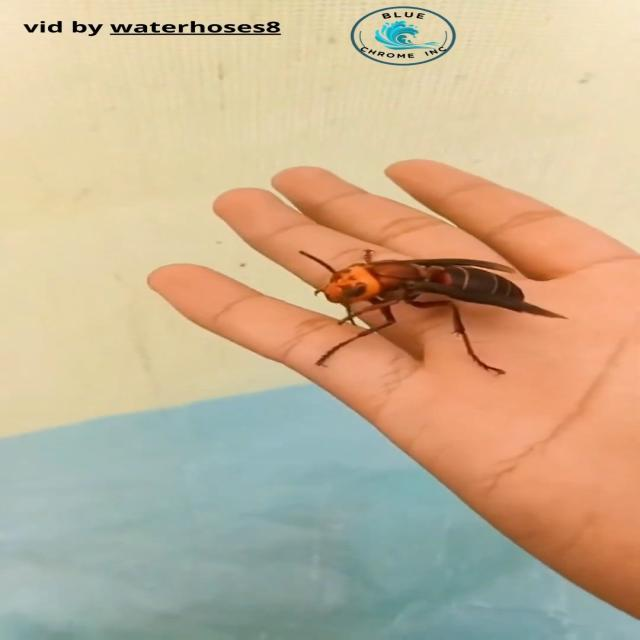Hornets: (295, 246, 570, 375)
